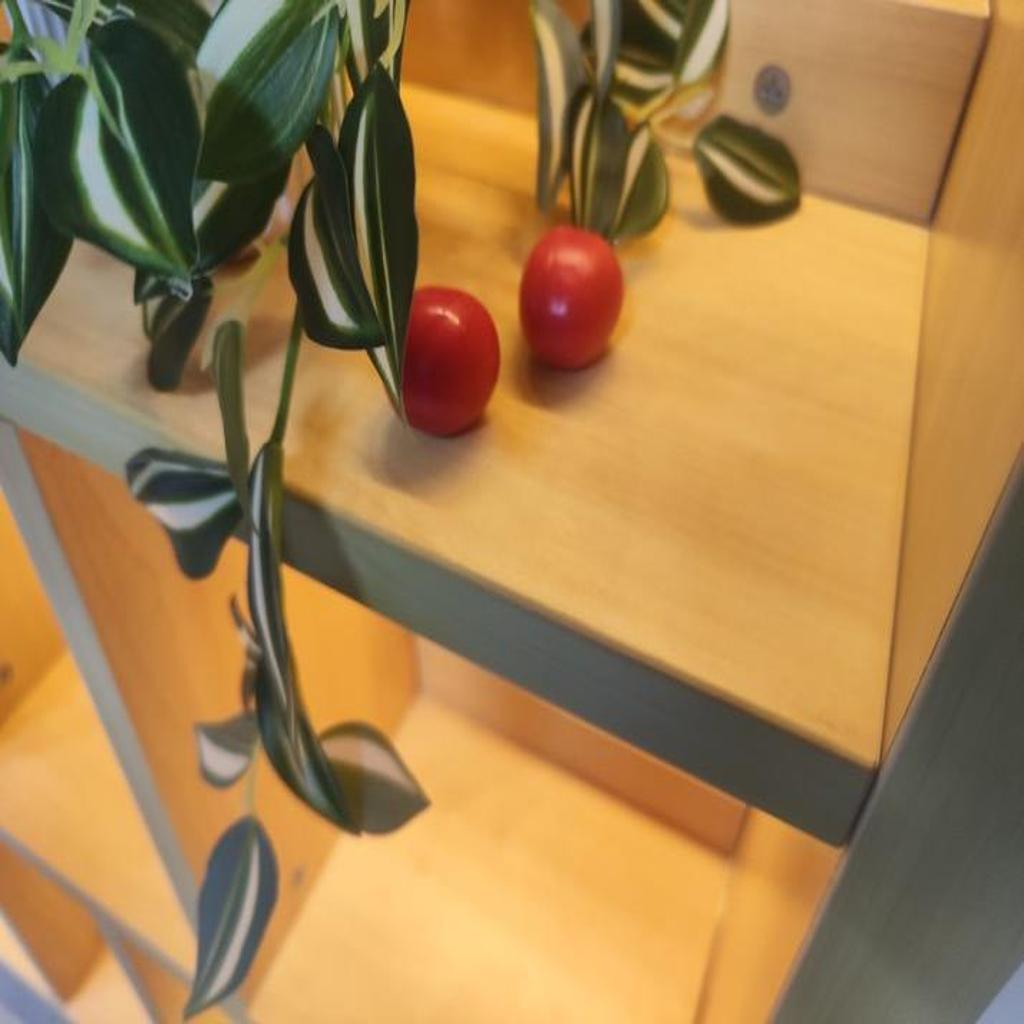tomato: (397, 279, 499, 439), (524, 222, 616, 371)
